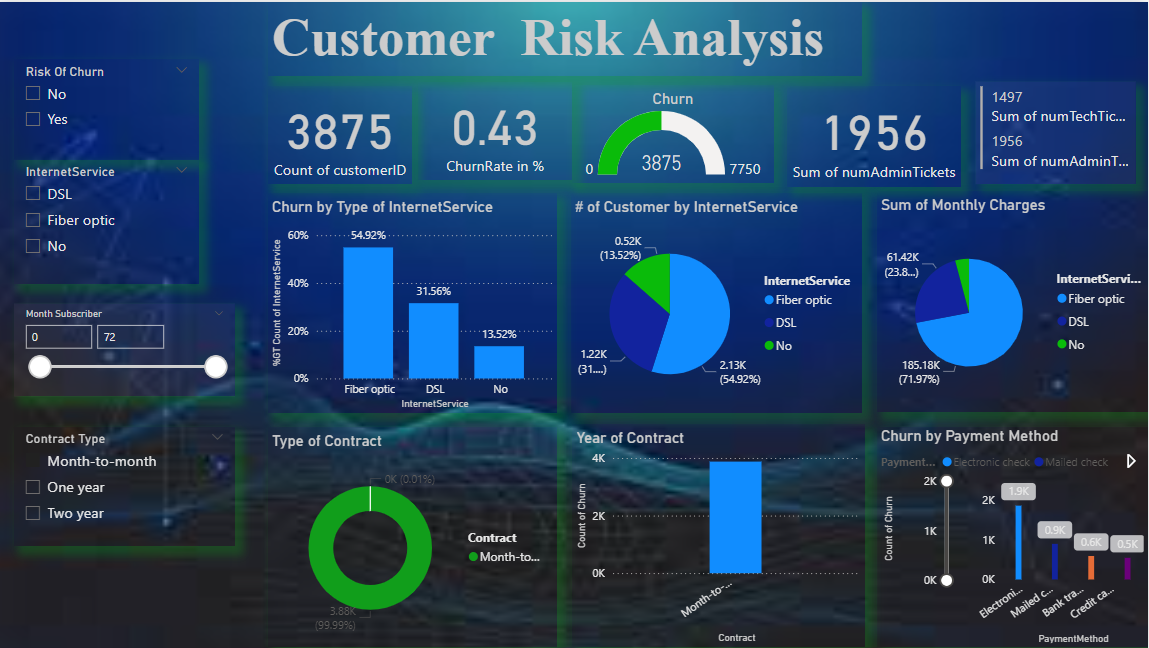

This screenshot's page, from the dashboard's own definition file:
{"tool":"powerbi","page":{"name":"Risk Analysis","canvas":[1280,720],"ordinal":2},"visuals":[{"type":"shape","box":[0,0,291.3,719.6],"z":0},{"type":"slicer","fields":{"Values":["01 Churn-Dataset.Churn"]},"box":[20,63.3,205,111.7],"z":1000},{"type":"slicer","fields":{"Values":["01 Churn-Dataset.InternetService"]},"box":[20,175,205,138.3],"z":2000},{"type":"slicer","fields":{"Values":["01 Churn-Dataset.tenure"]},"box":[20,335,245,103.3],"z":3000},{"type":"slicer","fields":{"Values":["01 Churn-Dataset.Contract"]},"box":[20,471.7,245,133.3],"z":4000},{"type":"card","fields":{"Values":["CountNonNull(01 Churn-Dataset.customerID)"]},"box":[302.2,93.5,160.9,108.7],"z":5000},{"type":"card","fields":{"Values":["01 Churn-Dataset.ChurnRate in %"]},"box":[468,88,172,110],"z":6000},{"type":"gauge","title":" Churn","fields":{"Y":["CountNonNull(01 Churn-Dataset.customerID)"]},"box":[640,92,224,110],"z":7000},{"type":"card","fields":{"Values":["Sum(01 Churn-Dataset.numAdminTickets)"]},"box":[878,94,194,112],"z":8000},{"type":"clusteredColumnChart","title":"Churn by Type of InternetService","fields":{"Category":["01 Churn-Dataset.InternetService"],"Y":["CountNonNull(01 Churn-Dataset.InternetService)"]},"box":[302.2,210.9,321.7,245.7],"z":10000},{"type":"pieChart","title":"# of Customer by InternetService","fields":{"Category":["01 Churn-Dataset.InternetService"],"Y":["CountNonNull(01 Churn-Dataset.Churn)"]},"box":[639.1,210.9,323.9,245.7],"z":11000},{"type":"donutChart","title":"  Type of Contract","fields":{"Category":["01 Churn-Dataset.Contract"],"Y":["01 Churn-Dataset.ChurnRate in %","CountNonNull(01 Churn-Dataset.customerID)"]},"box":[302.2,471.7,321.7,245.7],"z":12000},{"type":"multiRowCard","fields":{"Values":["Sum(01 Churn-Dataset.numTechTickets)","Sum(01 Churn-Dataset.numAdminTickets)"]},"box":[1088,88,178,114],"z":13000},{"type":"pieChart","title":"Sum of Monthly Charges ","fields":{"Y":["Sum(01 Churn-Dataset.MonthlyCharges)"],"Category":["01 Churn-Dataset.InternetService"]},"box":[978,210,302,246],"z":14000},{"type":"lineClusteredColumnComboChart","title":"Churn by Payment Method ","fields":{"Category":["01 Churn-Dataset.PaymentMethod"],"Series":["01 Churn-Dataset.PaymentMethod"],"Y":["CountNonNull(01 Churn-Dataset.Churn)"]},"box":[978.3,471.7,302.2,245.7],"z":15000},{"type":"lineStackedColumnComboChart","title":"Year of Contract","fields":{"Y":["CountNonNull(01 Churn-Dataset.Churn)"],"Category":["01 Churn-Dataset.Contract"]},"box":[640,468.3,325,248.3],"z":16000},{"type":"textbox","box":[302.2,0,660.9,82.6],"z":17000}]}

Visuals, with their boxes in screenshot pixels (x1, y1, x2, y2), scaled from the page's 1280x720 canvas onto the 1149x648 screenshot:
shape: <bbox>0, 0, 261, 647</bbox>
slicer - 01 Churn-Dataset.Churn: <bbox>18, 57, 202, 158</bbox>
slicer - 01 Churn-Dataset.InternetService: <bbox>18, 158, 202, 282</bbox>
slicer - 01 Churn-Dataset.tenure: <bbox>18, 302, 238, 394</bbox>
slicer - 01 Churn-Dataset.Contract: <bbox>18, 425, 238, 544</bbox>
card - CountNonNull(01 Churn-Dataset.customerID): <bbox>271, 84, 416, 182</bbox>
card - 01 Churn-Dataset.ChurnRate in %: <bbox>420, 79, 574, 178</bbox>
" Churn" gauge: <bbox>574, 83, 776, 182</bbox>
card - Sum(01 Churn-Dataset.numAdminTickets): <bbox>788, 85, 962, 185</bbox>
"Churn by Type of InternetService" clusteredColumnChart: <bbox>271, 190, 560, 411</bbox>
"# of Customer by InternetService" pieChart: <bbox>574, 190, 864, 411</bbox>
"  Type of Contract" donutChart: <bbox>271, 425, 560, 646</bbox>
multiRowCard - Sum(01 Churn-Dataset.numTechTickets) x Sum(01 Churn-Dataset.numAdminTickets): <bbox>977, 79, 1136, 182</bbox>
"Sum of Monthly Charges " pieChart: <bbox>878, 189, 1148, 410</bbox>
"Churn by Payment Method " lineClusteredColumnComboChart: <bbox>878, 425, 1148, 646</bbox>
"Year of Contract" lineStackedColumnComboChart: <bbox>574, 421, 866, 645</bbox>
textbox: <bbox>271, 0, 865, 74</bbox>
